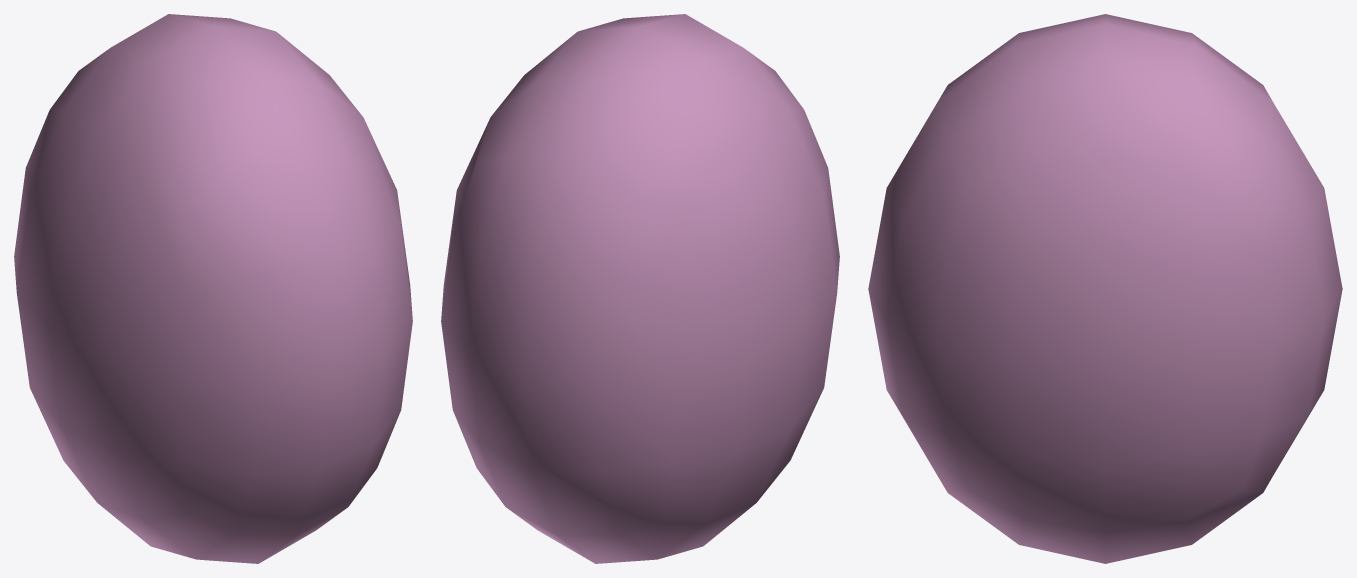
3 views of the same model, side by side, from view 1: azimuth 30°, elevation 25°; view 2: azimuth 150°, elevation 25°; view 3: azimuth 270°, elevation 25° (orthographic).
Parts seen in each view (by area): view 1: 右侧蜗腹侧核; view 2: 右侧蜗腹侧核; view 3: 右侧蜗腹侧核.
Boxes of the visible parts, bbox=[...] form: 右侧蜗腹侧核: bbox=[14, 14, 412, 563]; 右侧蜗腹侧核: bbox=[441, 14, 839, 563]; 右侧蜗腹侧核: bbox=[868, 14, 1342, 563].
Bounding box in the file's own units: 0.00237 × 0.00361 × 0.00293.
